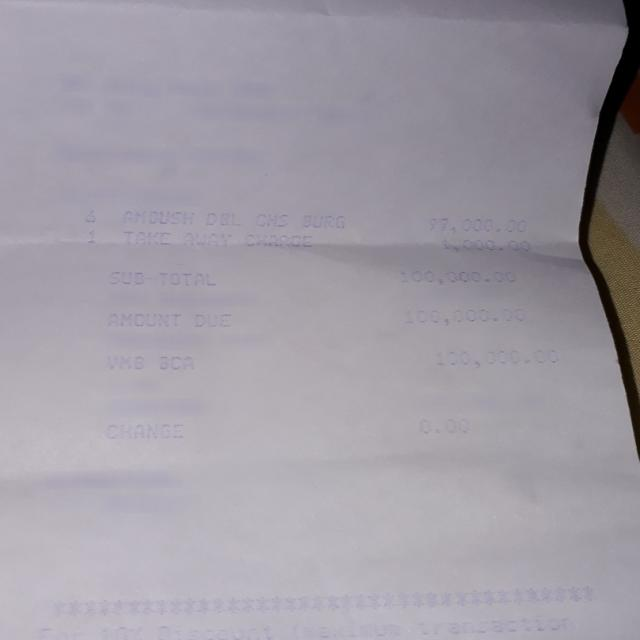text: (431, 348, 559, 368), (404, 307, 524, 328), (400, 268, 517, 286), (434, 236, 535, 254), (424, 216, 527, 233), (106, 269, 215, 285), (96, 422, 188, 439), (239, 230, 315, 249), (103, 310, 179, 328), (121, 210, 194, 226), (181, 230, 234, 247), (120, 230, 170, 246), (419, 419, 472, 433), (206, 209, 242, 228), (190, 312, 231, 328), (157, 353, 193, 371), (302, 214, 345, 227), (106, 356, 142, 368), (256, 213, 286, 226), (82, 209, 96, 223), (83, 229, 97, 243)
